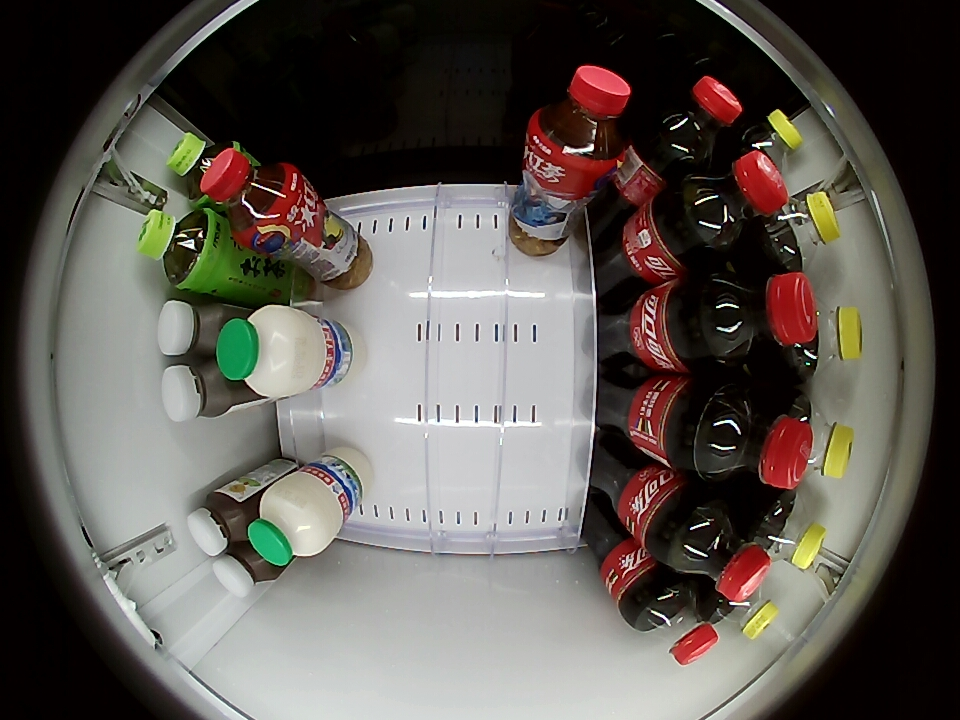baishikele: (761, 191, 840, 271), (751, 492, 827, 569), (786, 304, 862, 381), (787, 395, 854, 477), (736, 108, 803, 169), (711, 585, 779, 640)
binghongcha: (527, 64, 633, 177), (200, 146, 301, 244)
kele-b: (696, 384, 813, 489), (706, 270, 816, 365), (669, 501, 771, 603), (682, 152, 787, 251), (648, 76, 742, 170), (633, 579, 720, 665)
liziyuan: (217, 304, 328, 400), (249, 467, 346, 565)
yitengyuan: (137, 206, 220, 291), (168, 132, 239, 206)
youyanggudong: (187, 489, 251, 557), (161, 363, 232, 422), (157, 299, 225, 358), (211, 542, 281, 596)
